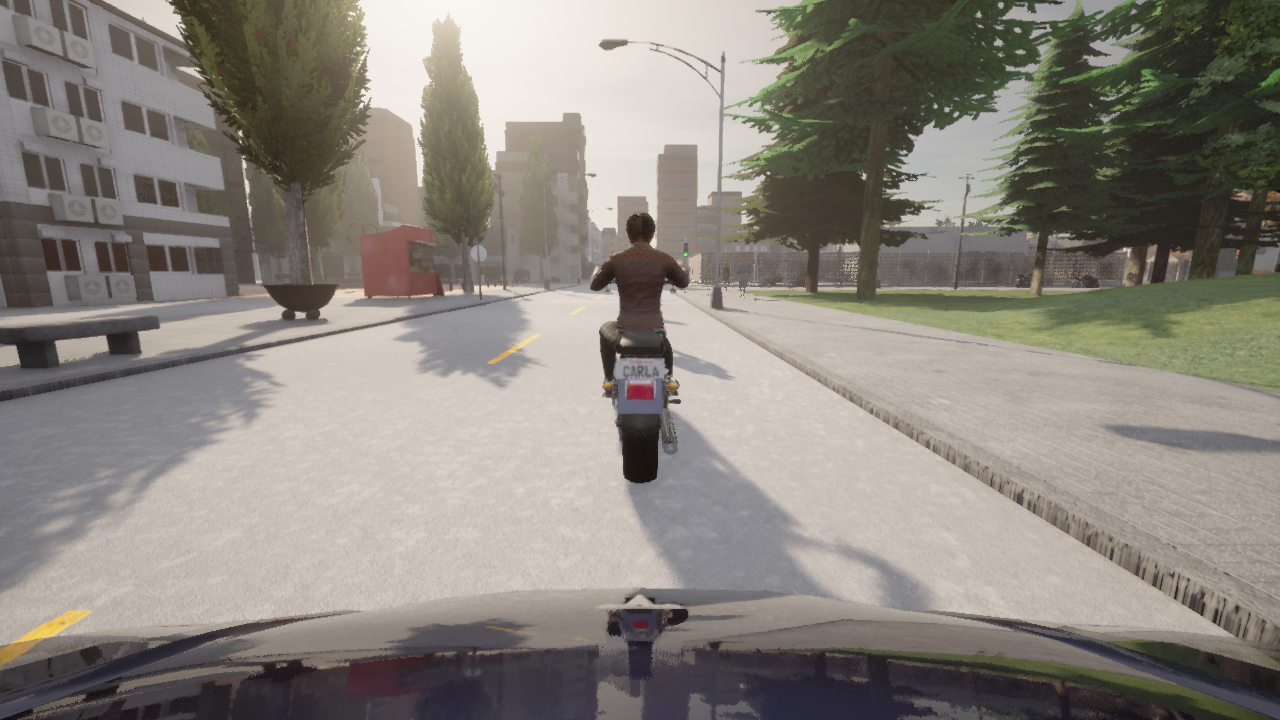cyclist: (0, 588, 1279, 719), (591, 265, 689, 483), (1016, 274, 1044, 287), (1071, 275, 1099, 287), (760, 274, 784, 287), (788, 273, 806, 287), (780, 271, 789, 277), (818, 269, 824, 277), (752, 273, 761, 277), (730, 268, 733, 277), (759, 272, 764, 275), (834, 272, 836, 273)
pedestrian: (736, 258, 752, 298), (720, 262, 728, 289), (722, 273, 727, 290)
